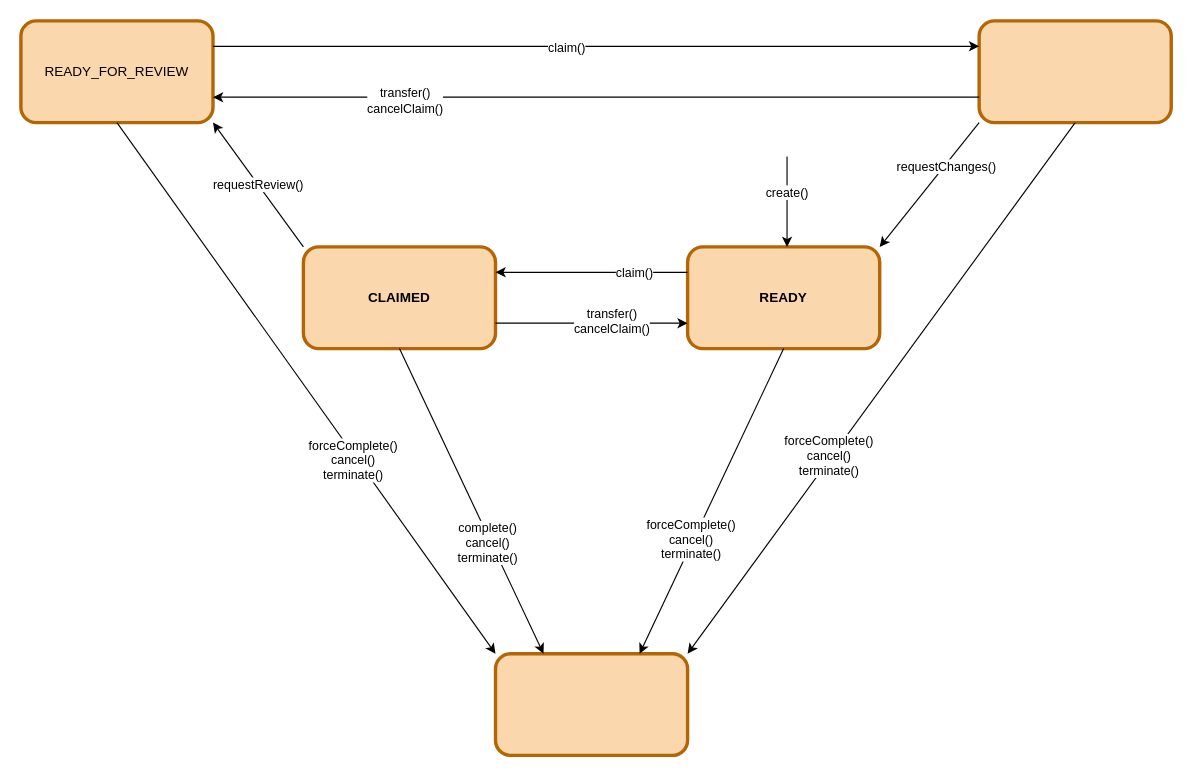
This 1192x776 diagram has some shape labels left out. Each missing label, with the centre of its shape:
FINAL STATUS (COMPLETED / CANCELLED / TERMINATED): the point at 591,704
IN_REVIEW: the point at 1074,71
